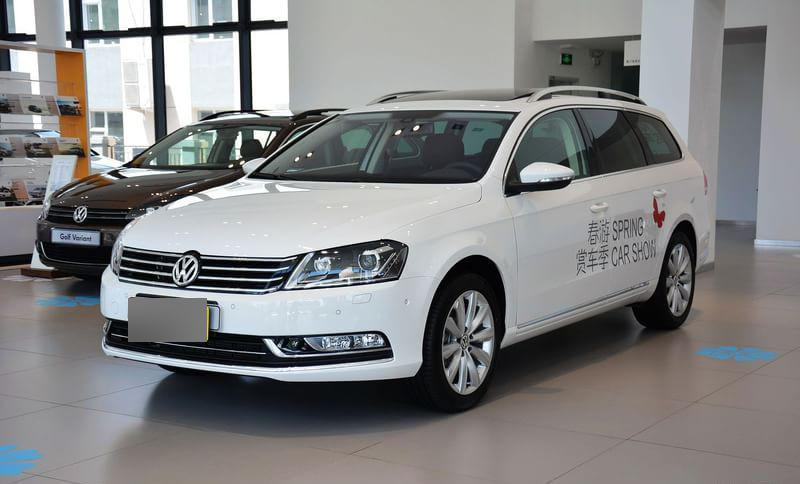Wagon: (98, 83, 713, 414)
